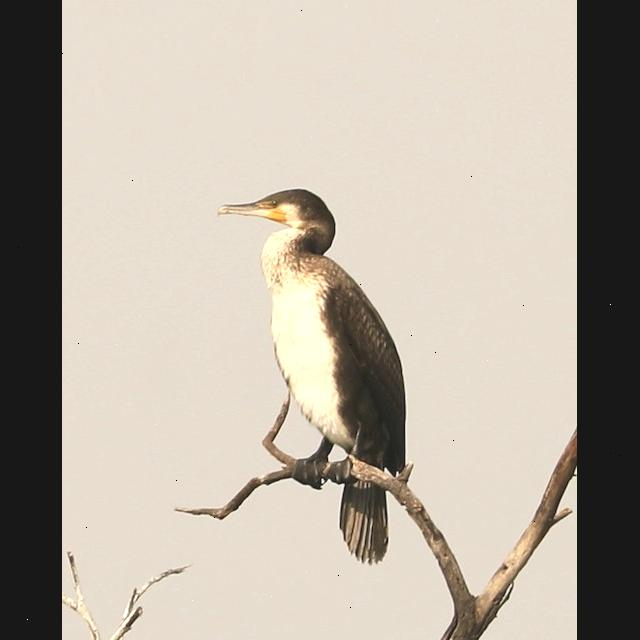cormorant: (205, 179, 419, 565)
